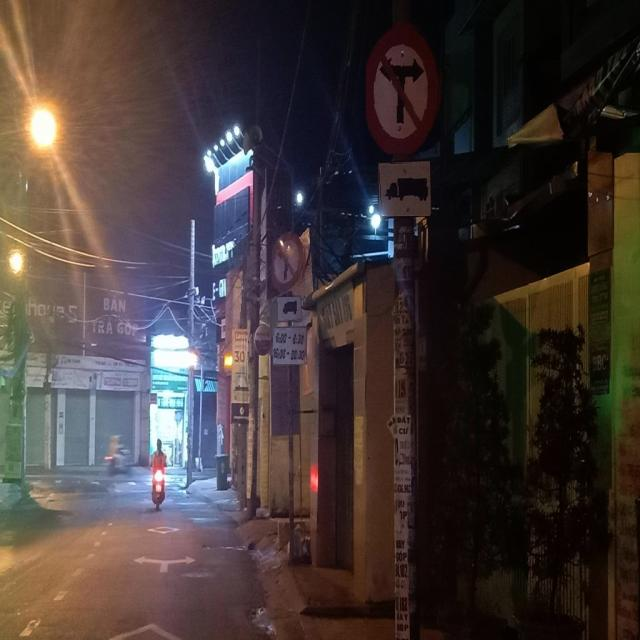cam_re_trai_va_phai: (366, 24, 442, 154), (272, 232, 306, 292)
khac: (378, 162, 430, 216), (273, 328, 307, 364), (278, 297, 302, 322)
